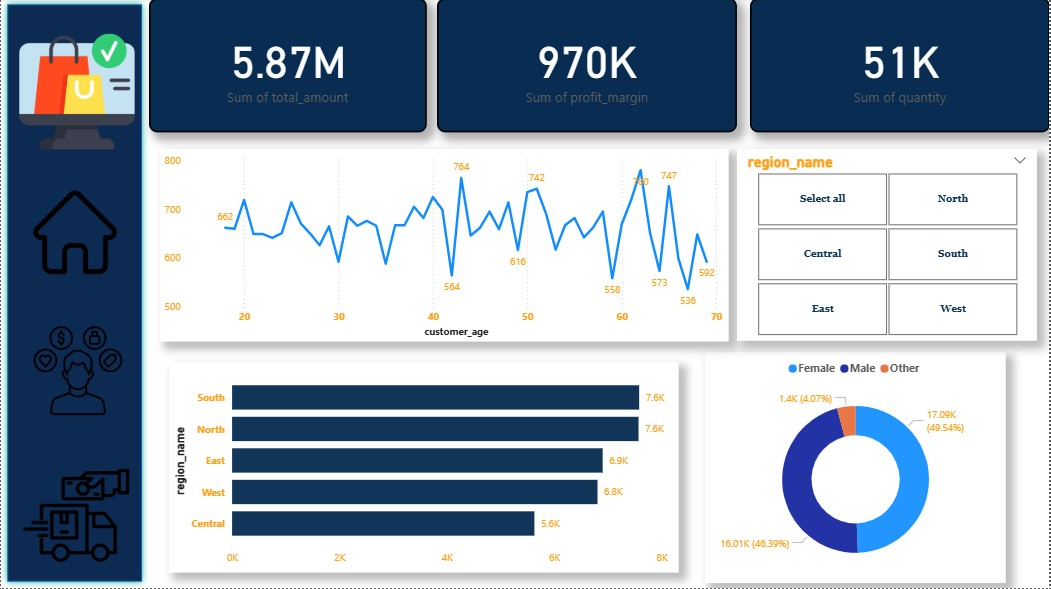

The dashboard page shown, as its layout file describes it:
{"tool":"powerbi","page":{"name":"Page 2","canvas":[1280,720],"ordinal":1},"visuals":[{"type":"shape","box":[0,0,180,720],"z":0},{"type":"card","fields":{"Values":["Sum(dwh fact_orders.total_amount)"]},"box":[180.3,0,338.6,163.8],"z":1000},{"type":"card","fields":{"Values":["Sum(dwh fact_orders.profit_margin)"]},"box":[532.6,0,366.1,163.8],"z":2000},{"type":"card","fields":{"Values":["Sum(dwh fact_orders.quantity)"]},"box":[913.9,0,366.1,163.8],"z":3000},{"type":"image","box":[17.3,21.3,150.7,186.7],"z":4000},{"type":"image","box":[34.7,222.7,112,128],"z":5000},{"type":"image","box":[24,389.3,138.7,130.7],"z":6000},{"type":"image","box":[14.7,561.3,153.3,140],"z":7000},{"type":"donutChart","fields":{"Category":["dwh dim_customer.customer_gender"],"Y":["CountNonNull(dwh fact_orders.order_id)"]},"box":[858.8,432.2,367.5,282.2],"z":7001},{"type":"lineChart","fields":{"Category":["dwh dim_customer.customer_age"],"Y":["CountNonNull(dwh fact_orders.order_id)"]},"box":[194.1,184.4,693.7,235.4],"z":7002},{"type":"barChart","fields":{"Category":["dwh dim_region.region_name"],"Y":["CountNonNull(dwh fact_orders.order_id)"]},"box":[205.1,444.6,622.1,257.4],"z":7003},{"type":"slicer","fields":{"Values":["dwh dim_region.region_name"]},"box":[898.8,184.4,366.1,234],"z":7004}]}

Visuals, with their boxes in screenshot pixels (x1, y1, x2, y2), scaled from the page's 1280x720 canvas onto the 1051x589 screenshot:
shape: region(0, 0, 148, 588)
card - Sum(dwh fact_orders.total_amount): region(148, 0, 426, 134)
card - Sum(dwh fact_orders.profit_margin): region(437, 0, 738, 134)
card - Sum(dwh fact_orders.quantity): region(750, 0, 1050, 134)
image: region(14, 17, 138, 170)
image: region(28, 182, 120, 287)
image: region(20, 318, 134, 425)
image: region(12, 459, 138, 574)
donutChart - dwh dim_customer.customer_gender x CountNonNull(dwh fact_orders.order_id): region(705, 354, 1007, 584)
lineChart - dwh dim_customer.customer_age x CountNonNull(dwh fact_orders.order_id): region(159, 151, 729, 343)
barChart - dwh dim_region.region_name x CountNonNull(dwh fact_orders.order_id): region(168, 364, 679, 574)
slicer - dwh dim_region.region_name: region(738, 151, 1039, 342)
